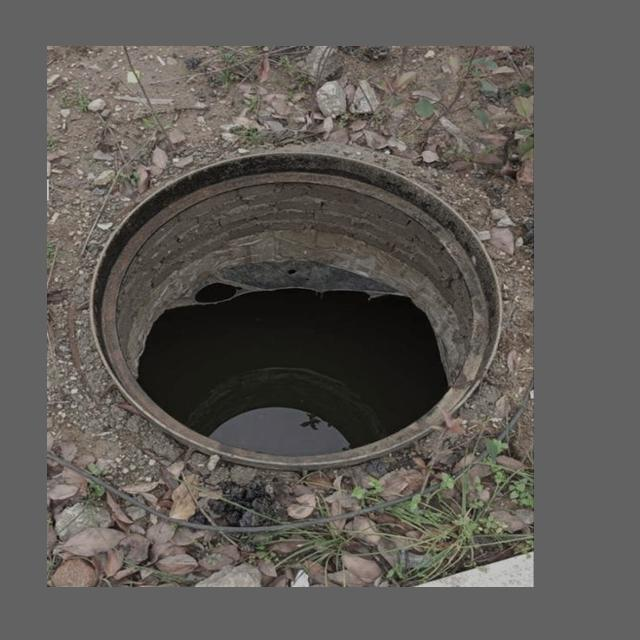lose: (84, 143, 505, 473)
